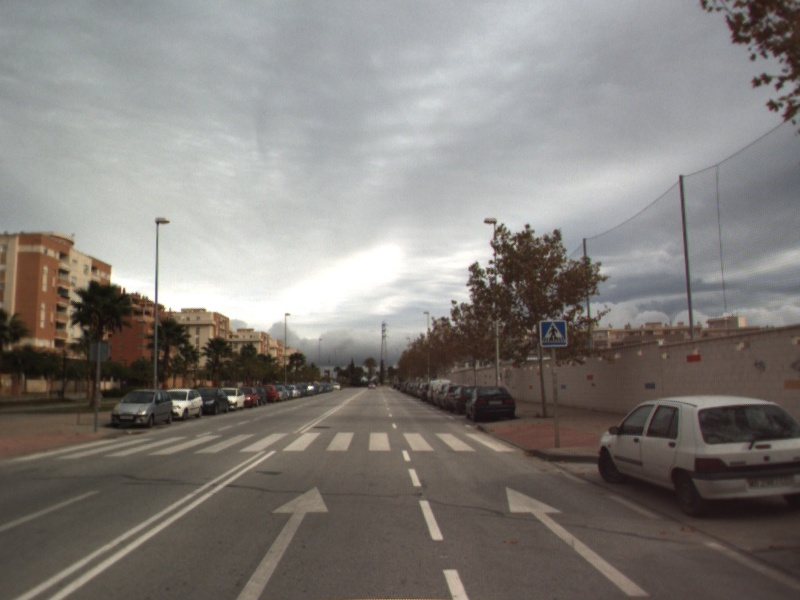STRAIGHT: (504, 484, 652, 597), (234, 484, 331, 600)
